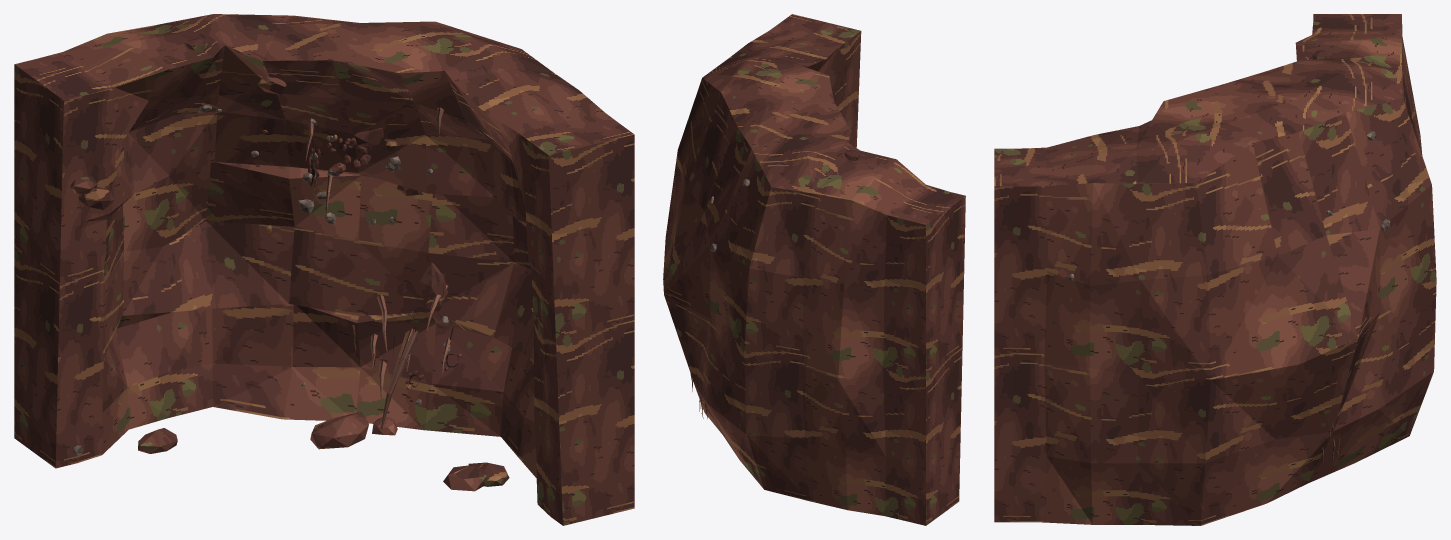
File: SM_AN02_EarthCorner_B.fbx
3 views of the same model, side by side, from view 1: azimuth 30°, elevation 25°; view 2: azimuth 150°, elevation 25°; view 3: azimuth 270°, elevation 25° (orthographic). The views are drawn at different scales.
Visible parts, largest first — view 1: AN02b_Earth, AN02b_Root, AN02b_Props; view 2: AN02b_Earth; view 3: AN02b_Earth.
Boxes of the visible parts, box(x1,y1,x2,y2) form: AN02b_Earth: box(14, 14, 634, 525); AN02b_Root: box(305, 107, 453, 429); AN02b_Props: box(73, 105, 458, 455); AN02b_Earth: box(663, 14, 965, 525); AN02b_Earth: box(994, 14, 1436, 525).
Bounding box in the file's own units: 4.81 × 4.31 × 4.77.
